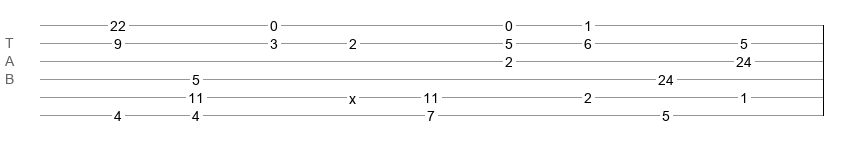0: (270, 18, 278, 28), (505, 18, 513, 28)
1: (584, 18, 592, 28), (740, 90, 748, 100)
11: (188, 90, 204, 100), (423, 90, 439, 100)
2: (349, 36, 357, 46), (505, 54, 513, 64), (584, 90, 592, 100)
22: (110, 18, 126, 28)
24: (658, 72, 674, 82), (736, 54, 752, 64)
3: (270, 36, 278, 46)
4: (114, 108, 122, 118), (192, 108, 200, 118)
5: (192, 72, 200, 82), (505, 36, 513, 46), (662, 108, 670, 118), (740, 36, 748, 46)
6: (584, 36, 592, 46)
7: (427, 108, 435, 118)
9: (114, 36, 122, 46)
x: (349, 91, 356, 99)
